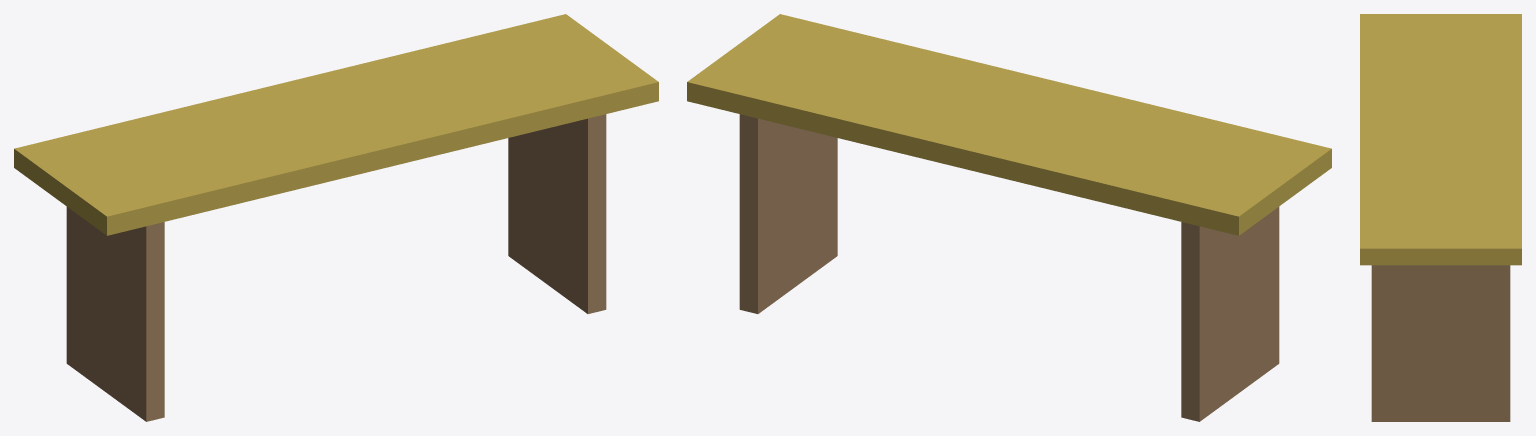
File: bench.glb
The picture shows the model from 3 angles, left to right: view 1: azimuth 30°, elevation 25°; view 2: azimuth 150°, elevation 25°; view 3: azimuth 270°, elevation 25°; orthographic projection. The views are drawn at different scales.
Visible parts, largest first — view 1: seat, legs; view 2: seat, legs; view 3: seat, legs.
Part boxes in pixels (box(x1,y1,x2,y2)): seat: box(14, 14, 658, 235); legs: box(66, 114, 606, 421); seat: box(687, 14, 1331, 235); legs: box(739, 114, 1279, 421); seat: box(1360, 14, 1521, 265); legs: box(1371, 265, 1510, 421).
Size of the model in its own units: 1.2 by 0.46 by 0.35.
